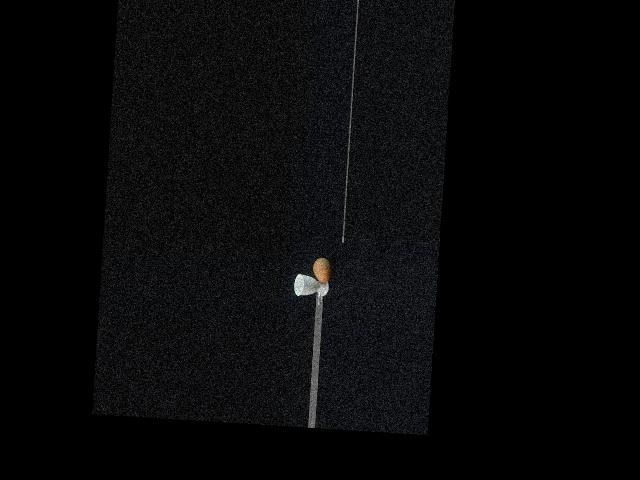egg: (312, 258, 331, 283)
